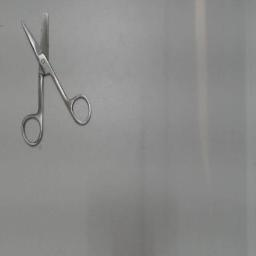Dressing Scissors: (16, 5, 94, 151)
